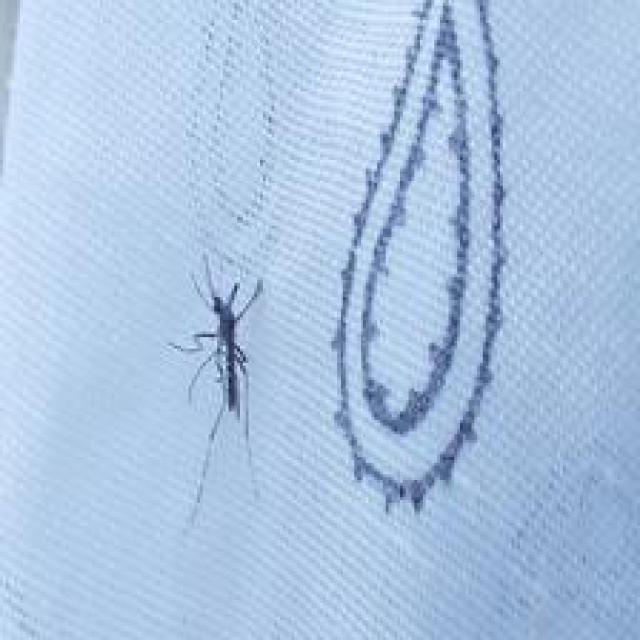Aedes albopictus: (168, 253, 266, 533)
